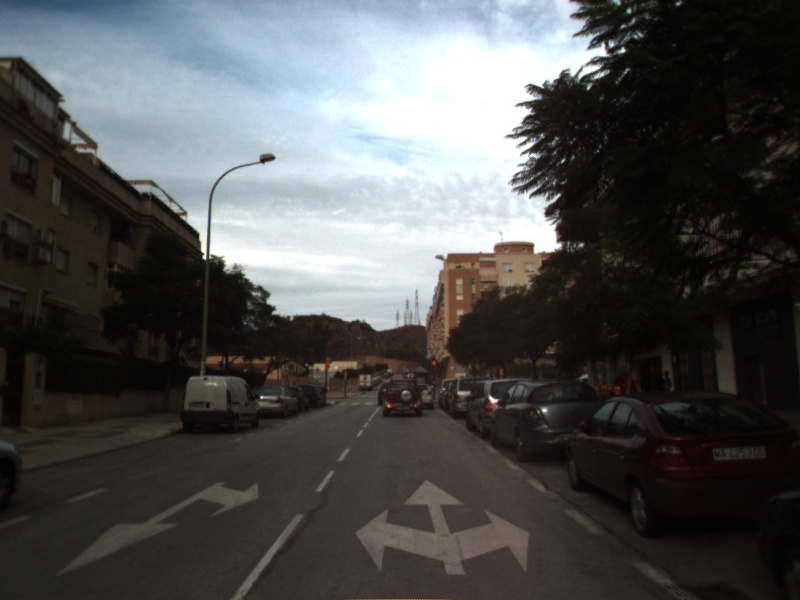STRAIGHT_LEFT_RIGHT: (353, 477, 532, 578)
